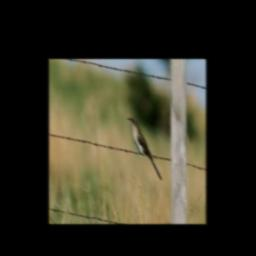Cuckoo: (126, 116, 161, 180)
